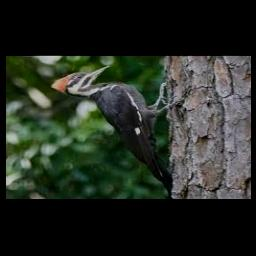Woodpecker: (50, 66, 175, 198)
